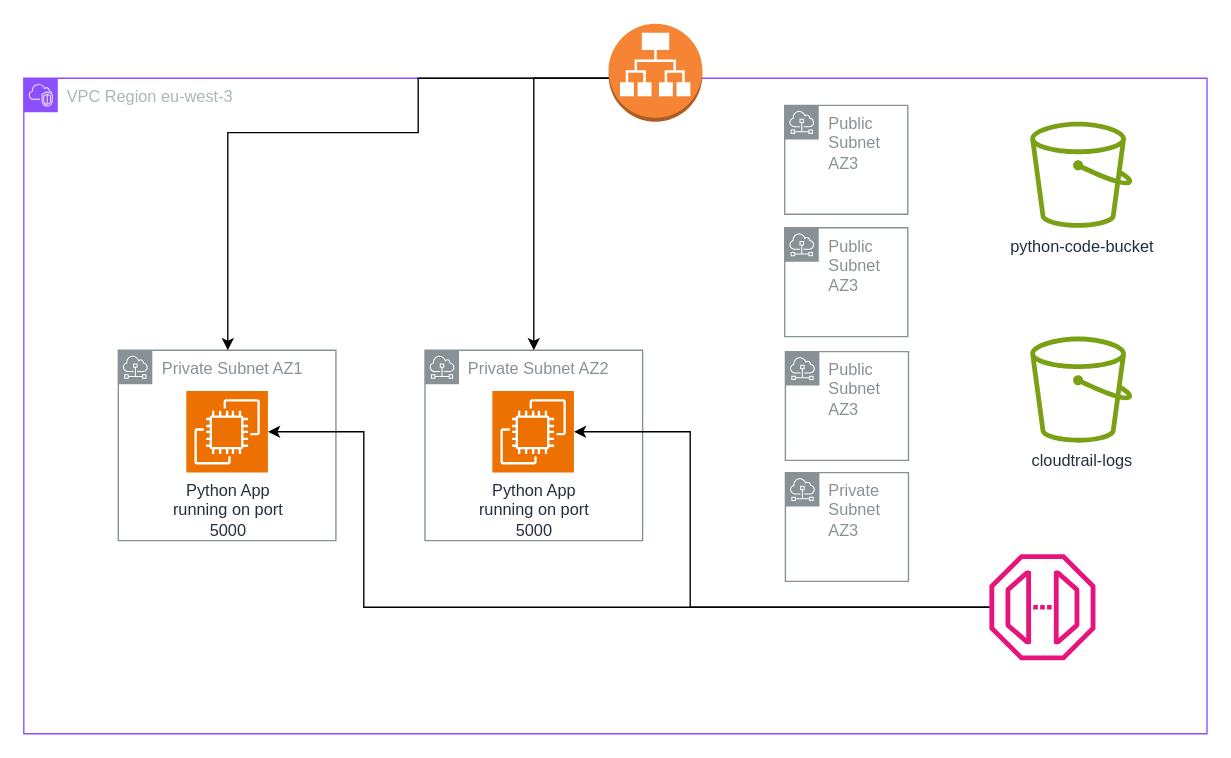
This 1231x758 diagram has some shape labels left out. The shapes that lost their labels are listed below. From the top down, each one's centre as x and y in pixels, then its label:
the point at 654,72: Application Load Balancer Listening on port 80
the point at 1042,607: AWS EC2 endpoint for ssh
